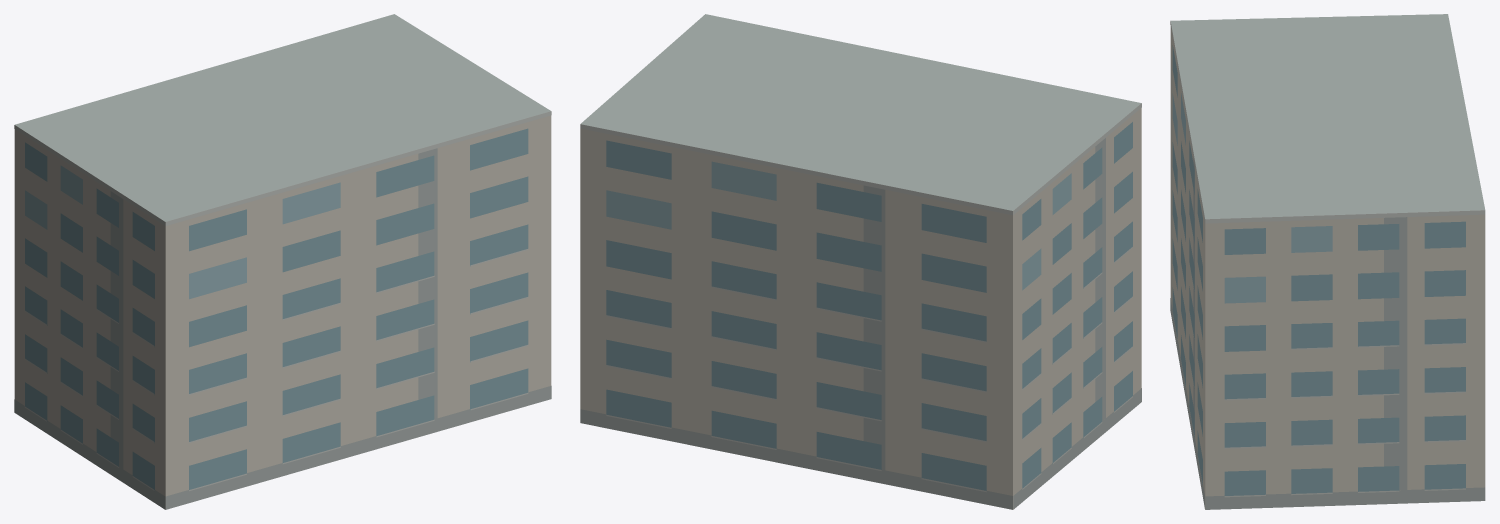
Rendered from survey-upis-32569616.glb.
3 views of the same model, side by side, from view 1: azimuth 30°, elevation 25°; view 2: azimuth 150°, elevation 25°; view 3: azimuth 270°, elevation 25° (orthographic). The views are drawn at different scales.
Visible parts, largest first — view 1: survey-upis-32569616.tmp; view 2: survey-upis-32569616.tmp; view 3: survey-upis-32569616.tmp.
Boxes of the visible parts, left/top/right/bottom form: survey-upis-32569616.tmp: left=14, top=14, right=551, bottom=509; survey-upis-32569616.tmp: left=580, top=14, right=1141, bottom=509; survey-upis-32569616.tmp: left=1170, top=14, right=1485, bottom=509.
Bounding box in the file's own units: 25 × 16.5 × 16.21.
